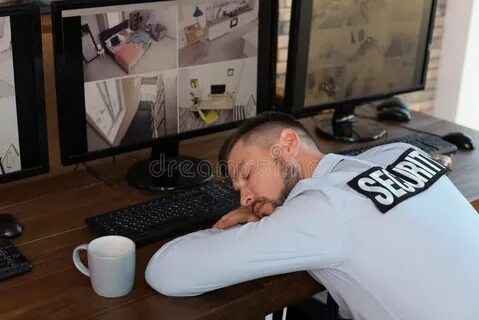sleep: (143, 110, 478, 320)
